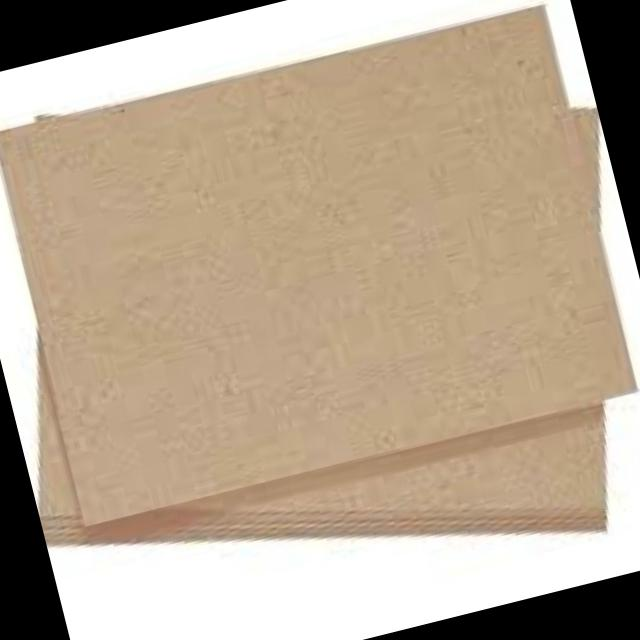cardboard paper: (0, 7, 637, 543)
